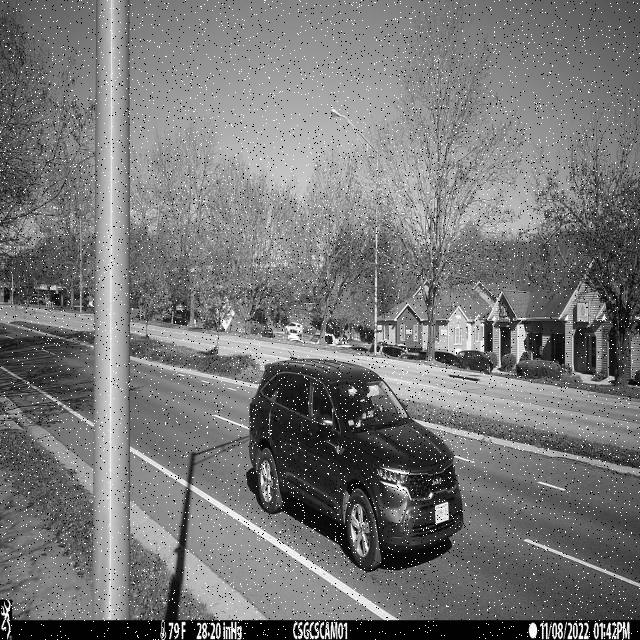SUV: (249, 357, 464, 572)
